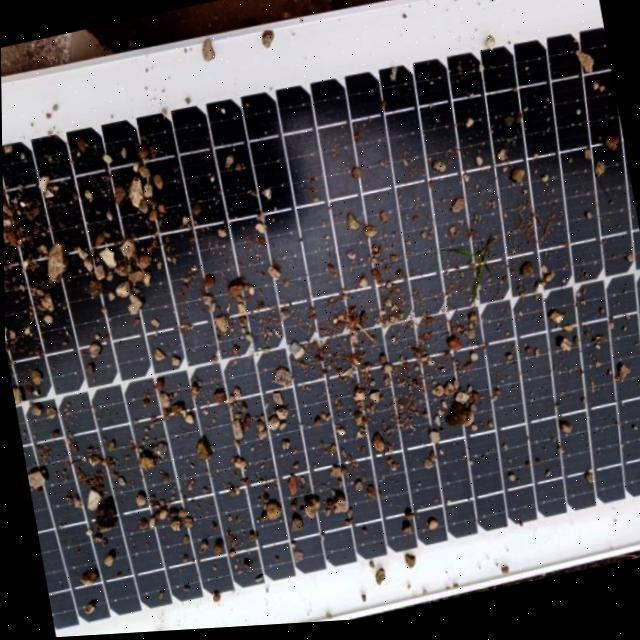Surface Contaminant: (1, 0, 640, 638)
